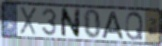0: (81, 8, 103, 41)
3: (41, 7, 58, 37)
A: (101, 11, 125, 41)
N: (60, 7, 82, 39)
Q: (125, 10, 144, 41)
X: (19, 6, 38, 37)
